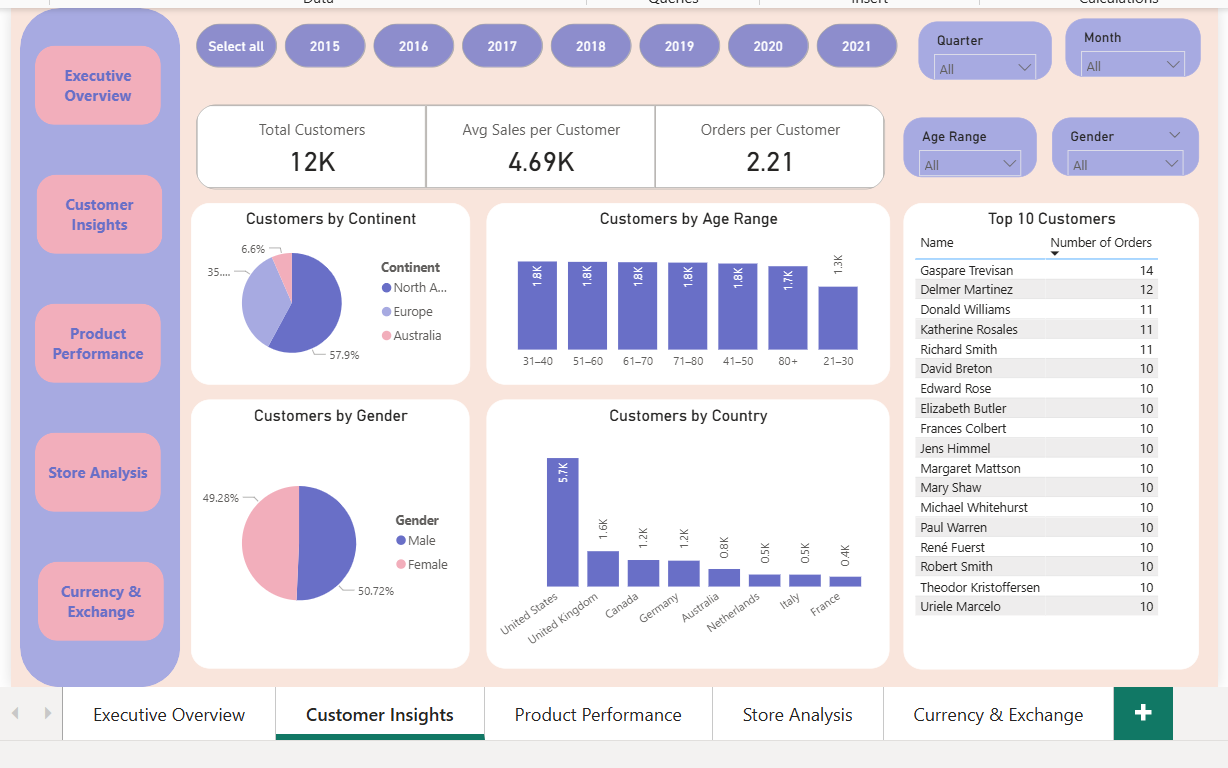

The dashboard page shown, as its layout file describes it:
{"tool":"powerbi","page":{"name":"Customer Insights","canvas":[1280,720],"ordinal":1},"visuals":[{"type":"cardVisual","fields":{"Data":["Sales.Total Customers","Sales.Avg Sales per Customer","Sales.Orders per Customer"]},"box":[190.9,97,741.2,100.2],"z":0},{"type":"actionButton","box":[28.4,177.4,133.6,84.3],"z":0,"group":"g2"},{"type":"group","id":"g1","title":"Group 3","box":[10,0,170,720.4],"z":1000},{"type":"actionButton","box":[26.7,314.3,133.6,84.3],"z":1000,"group":"g2"},{"type":"shape","box":[10,0,170,720.4],"z":2000,"group":"g1"},{"type":"pieChart","title":"Customers by Continent","fields":{"Category":["Customers.Continent"],"Y":["Sales.Total Customers"]},"box":[190.9,206.8,295.9,192.5],"z":2000},{"type":"actionButton","box":[26.7,451.3,133.6,84.3],"z":2000,"group":"g2"},{"type":"columnChart","title":"Customers by Country","fields":{"Category":["Customers.Country"],"Y":["Sales.Total Customers"]},"box":[504.7,415.7,427.2,285.4],"z":3000},{"type":"actionButton","box":[30.1,588.2,133.6,84.3],"z":3000,"group":"g2"},{"type":"pieChart","title":"Customers by Gender","fields":{"Y":["Sales.Total Customers"],"Category":["Customers.Gender"]},"box":[191.3,415.7,295.3,285.4],"z":4000},{"type":"tableEx","title":"Top 10 Customers","fields":{"Values":["Customers.Name","Sales.Number of Orders"]},"box":[946.4,206.8,313.4,494.7],"z":5000},{"type":"slicer","fields":{"Values":["Customers.Gender"]},"box":[1103.9,116.1,155.9,62],"z":6000},{"type":"slicer","fields":{"Values":["Customers.Age Range"]},"box":[946.4,116.1,141.6,63.6],"z":7000},{"type":"actionButton","box":[26.7,40.5,133.6,84.3],"z":7001,"group":"g3"},{"type":"group","id":"g2","title":"Group 1","box":[26.7,177.4,137,495.1],"z":7006,"group":"g3"},{"type":"group","id":"g3","title":"Group 2","box":[26.7,40.5,137,632],"z":7007,"group":"g1"},{"type":"columnChart","title":"Customers by Age Range","fields":{"Category":["Customers.Age Range"],"Y":["Sales.Total Customers"]},"box":[504.2,206.8,427.9,192.5],"z":8000},{"type":"advancedSlicerVisual","fields":{"Values":["Date.Year"]},"box":[190.9,11.1,755.5,57.3],"z":9000},{"type":"slicer","fields":{"Values":["Date.Month"]},"box":[1118.2,11.1,143.2,62],"z":10000},{"type":"slicer","fields":{"Values":["Date.Quarter"]},"box":[962.3,14.3,141.6,62],"z":11000}]}

Visuals, with their boxes on the page's 1280x720 design canvas (x1, y1, x2, y2). These are canvas units, not pixel positions in the 1228x768 screenshot, which may show the page scaled, cropped or inside an application window:
cardVisual - Sales.Total Customers x Sales.Avg Sales per Customer: Rect(191, 97, 932, 197)
actionButton: Rect(28, 177, 162, 262)
"Group 3" group: Rect(10, 0, 180, 720)
actionButton: Rect(27, 314, 160, 399)
shape: Rect(10, 0, 180, 720)
"Customers by Continent" pieChart: Rect(191, 207, 487, 399)
actionButton: Rect(27, 451, 160, 536)
"Customers by Country" columnChart: Rect(505, 416, 932, 701)
actionButton: Rect(30, 588, 164, 672)
"Customers by Gender" pieChart: Rect(191, 416, 487, 701)
"Top 10 Customers" tableEx: Rect(946, 207, 1260, 702)
slicer - Customers.Gender: Rect(1104, 116, 1260, 178)
slicer - Customers.Age Range: Rect(946, 116, 1088, 180)
actionButton: Rect(27, 40, 160, 125)
"Group 1" group: Rect(27, 177, 164, 672)
"Group 2" group: Rect(27, 40, 164, 672)
"Customers by Age Range" columnChart: Rect(504, 207, 932, 399)
advancedSlicerVisual - Date.Year: Rect(191, 11, 946, 68)
slicer - Date.Month: Rect(1118, 11, 1261, 73)
slicer - Date.Quarter: Rect(962, 14, 1104, 76)
